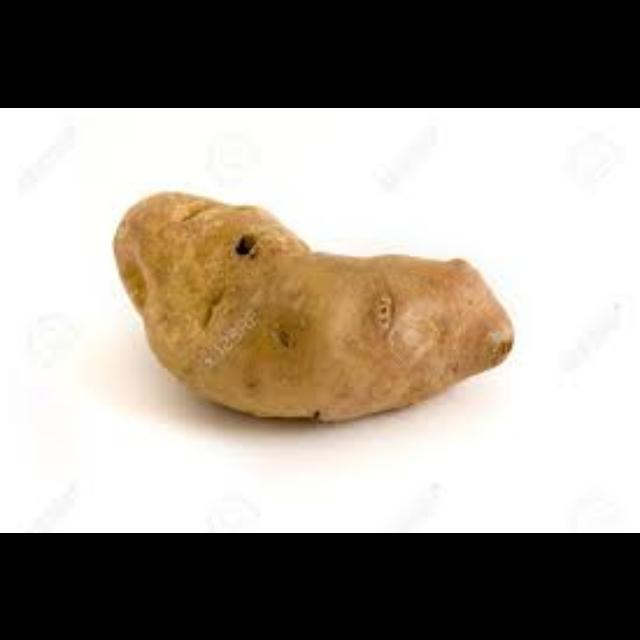Damaged potato: (110, 153, 530, 430)
